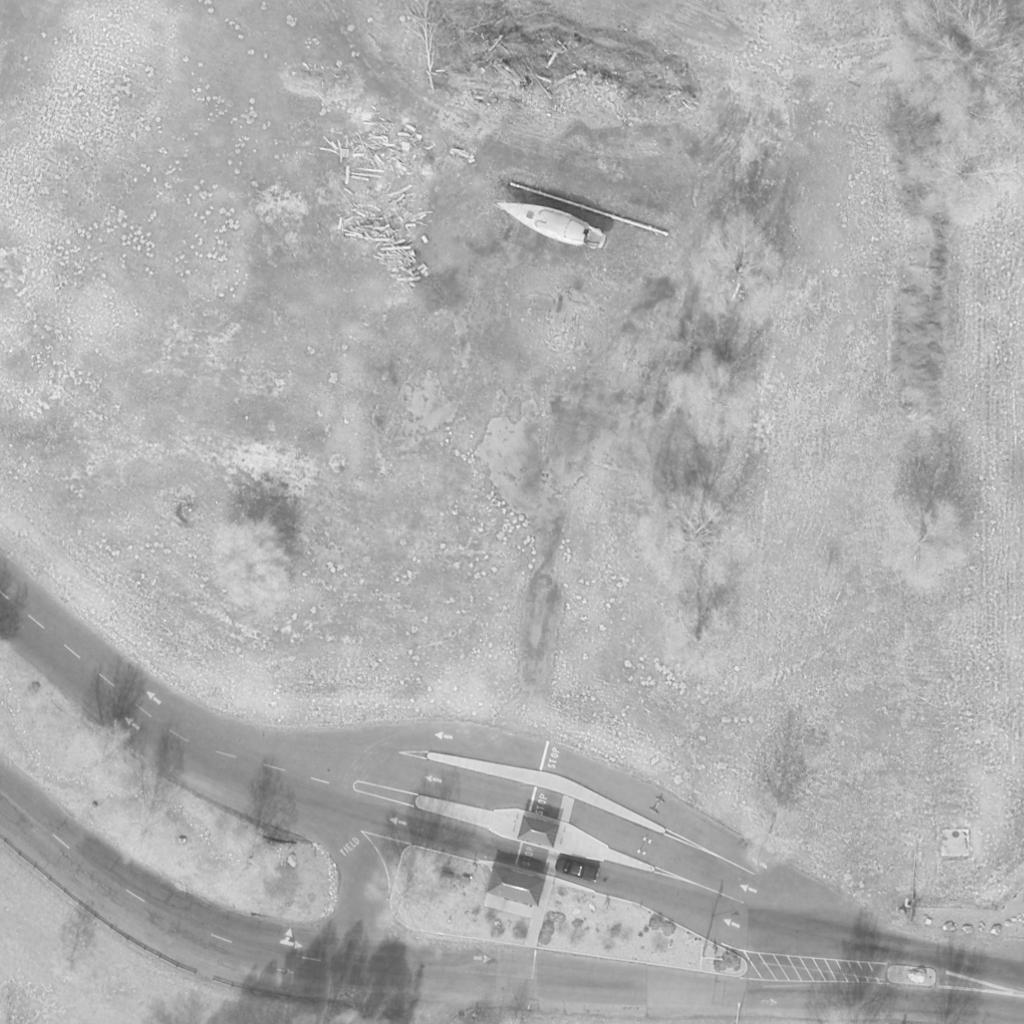vehicle: (490, 190, 612, 254), (556, 857, 602, 883)
